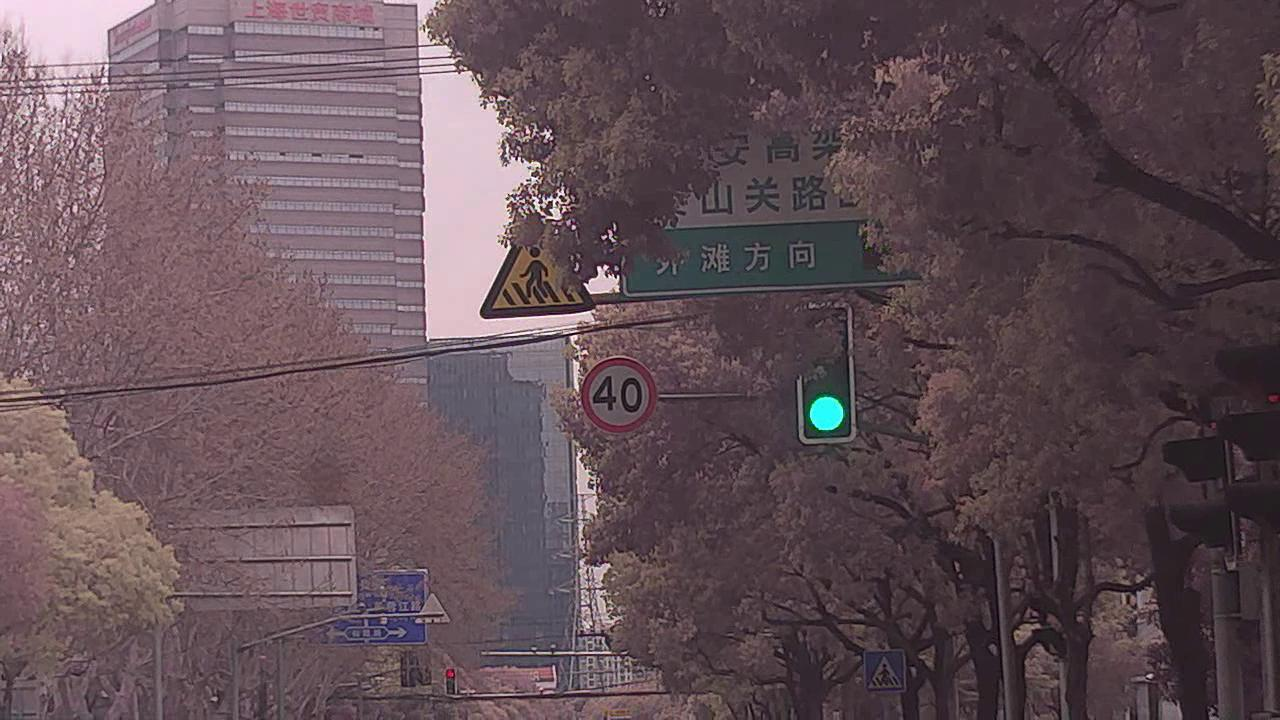traffic_light: (794, 313, 856, 447), (446, 667, 457, 691)
